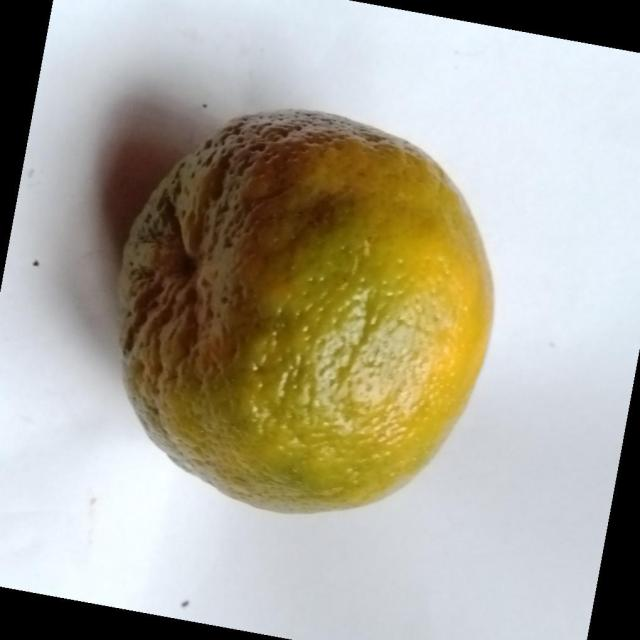fresh orange: (116, 107, 496, 515)
